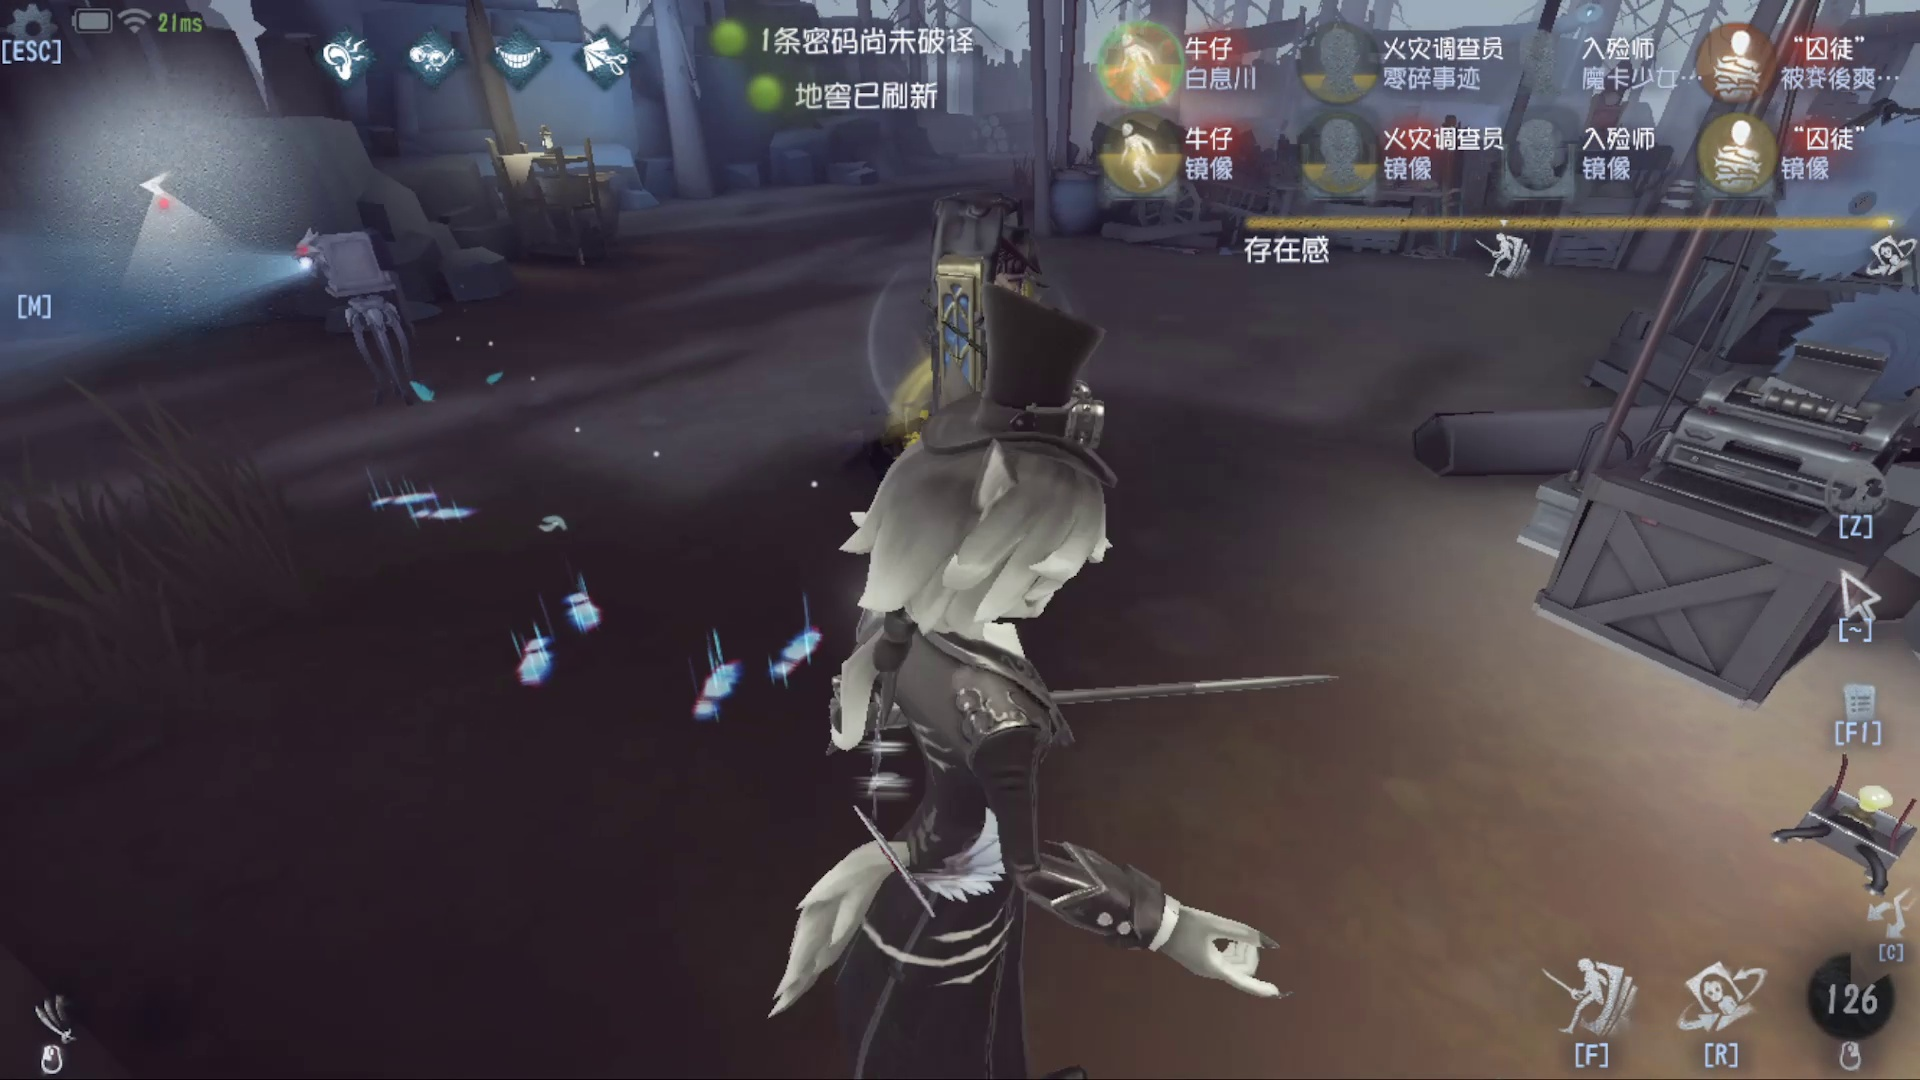密码机: (1548, 315, 1900, 705)
